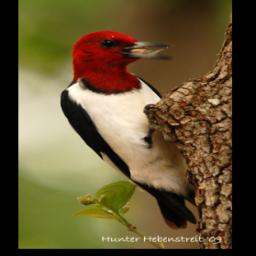Woodpecker: (59, 30, 197, 230)
